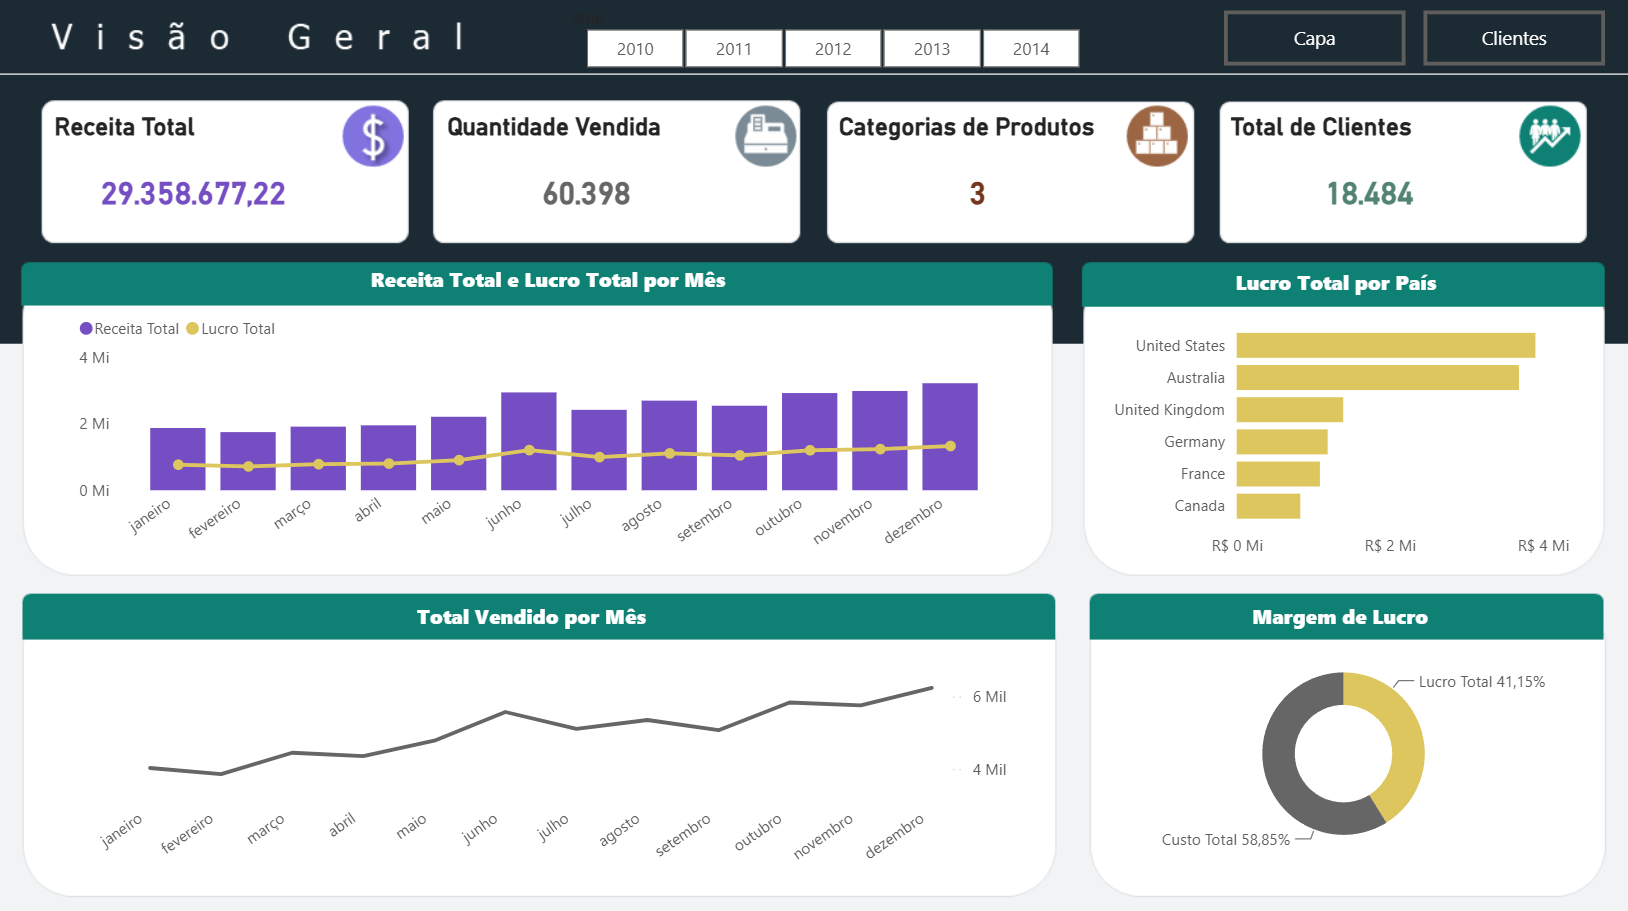

The dashboard page shown, as its layout file describes it:
{"tool":"powerbi","page":{"name":"GERAL","canvas":[1280,720],"ordinal":1},"visuals":[{"type":"card","title":"Receita Total","fields":{"Values":["Sum(RESULTADOS_ADW.RECEITA VENDA)"]},"box":[40.3,87.7,227.2,92],"z":0},{"type":"card","title":"Quantidade Vendida","fields":{"Values":["Sum(RESULTADOS_ADW.QTD. VENDIDA)"]},"box":[348,87.7,227.2,92],"z":1000},{"type":"card","title":"Categorias de Produtos","fields":{"Values":["Count(RESULTADOS_ADW.CATEGORIA PRODUTO)"]},"box":[655.8,87.7,227.2,92],"z":2000},{"type":"card","title":"Total de Clientes","fields":{"Values":["Count(RESULTADOS_ADW.ID CLIENTE)"]},"box":[962.1,87.7,227.2,92],"z":3000},{"type":"lineClusteredColumnComboChart","fields":{"Category":["RESULTADOS_ADW.DATA PEDIDO.Variation.Hierarquia de datas.Mês"],"Y":["Sum(RESULTADOS_ADW.RECEITA VENDA)"],"Y2":["Sum(RESULTADOS_ADW.LUCRO VENDA)"]},"box":[59,237.3,737.8,208.5],"z":4000},{"type":"textbox","box":[270.4,202.8,323.6,34.5],"z":5000},{"type":"clusteredBarChart","fields":{"Category":["RESULTADOS_ADW.PAÍS"],"Y":["Sum(RESULTADOS_ADW.LUCRO VENDA)"]},"box":[860,237.3,378.2,208.5],"z":6000},{"type":"textbox","box":[947.7,204.2,204.2,34.5],"z":7000},{"type":"lineChart","fields":{"Category":["RESULTADOS_ADW.DATA PEDIDO.Variation.Hierarquia de datas.Mês"],"Y2":["Sum(RESULTADOS_ADW.QTD. VENDIDA)"]},"box":[69,503.3,727.7,192.7],"z":8000},{"type":"textbox","box":[283.3,467.4,271.8,34.5],"z":9000},{"type":"donutChart","fields":{"Y":["Sum(RESULTADOS_ADW.LUCRO VENDA)","Sum(RESULTADOS_ADW.CUSTO VENDA)"]},"box":[874.4,503.3,363.3,174.4],"z":10000},{"type":"slicer","fields":{"Values":["RESULTADOS_ADW.DATA PEDIDO.Variation.Hierarquia de datas.Ano"]},"box":[438.6,0,434.3,57.5],"z":11000},{"type":"textbox","box":[917.5,467.4,271.8,34.5],"z":12000},{"type":"actionButton","box":[962.1,8.6,142.4,43.1],"z":13000},{"type":"actionButton","box":[1118.9,8.6,142.4,43.1],"z":14000}]}

Visuals, with their boxes in screenshot pixels (x1, y1, x2, y2), scaled from the page's 1280x720 canvas onto the 1628x911 screenshot:
"Receita Total" card: pyautogui.locateOnScreen(51, 111, 340, 227)
"Quantidade Vendida" card: pyautogui.locateOnScreen(443, 111, 732, 227)
"Categorias de Produtos" card: pyautogui.locateOnScreen(834, 111, 1123, 227)
"Total de Clientes" card: pyautogui.locateOnScreen(1224, 111, 1513, 227)
lineClusteredColumnComboChart - RESULTADOS_ADW.DATA PEDIDO.Variation.Hierarquia de datas.Mês x Sum(RESULTADOS_ADW.RECEITA VENDA): pyautogui.locateOnScreen(75, 300, 1013, 564)
textbox: pyautogui.locateOnScreen(344, 257, 755, 300)
clusteredBarChart - RESULTADOS_ADW.PAÍS x Sum(RESULTADOS_ADW.LUCRO VENDA): pyautogui.locateOnScreen(1094, 300, 1575, 564)
textbox: pyautogui.locateOnScreen(1205, 258, 1465, 302)
lineChart - RESULTADOS_ADW.DATA PEDIDO.Variation.Hierarquia de datas.Mês x Sum(RESULTADOS_ADW.QTD. VENDIDA): pyautogui.locateOnScreen(88, 637, 1013, 881)
textbox: pyautogui.locateOnScreen(360, 591, 706, 635)
donutChart - Sum(RESULTADOS_ADW.LUCRO VENDA) x Sum(RESULTADOS_ADW.CUSTO VENDA): pyautogui.locateOnScreen(1112, 637, 1574, 857)
slicer - RESULTADOS_ADW.DATA PEDIDO.Variation.Hierarquia de datas.Ano: pyautogui.locateOnScreen(558, 0, 1110, 73)
textbox: pyautogui.locateOnScreen(1167, 591, 1513, 635)
actionButton: pyautogui.locateOnScreen(1224, 11, 1405, 65)
actionButton: pyautogui.locateOnScreen(1423, 11, 1604, 65)
